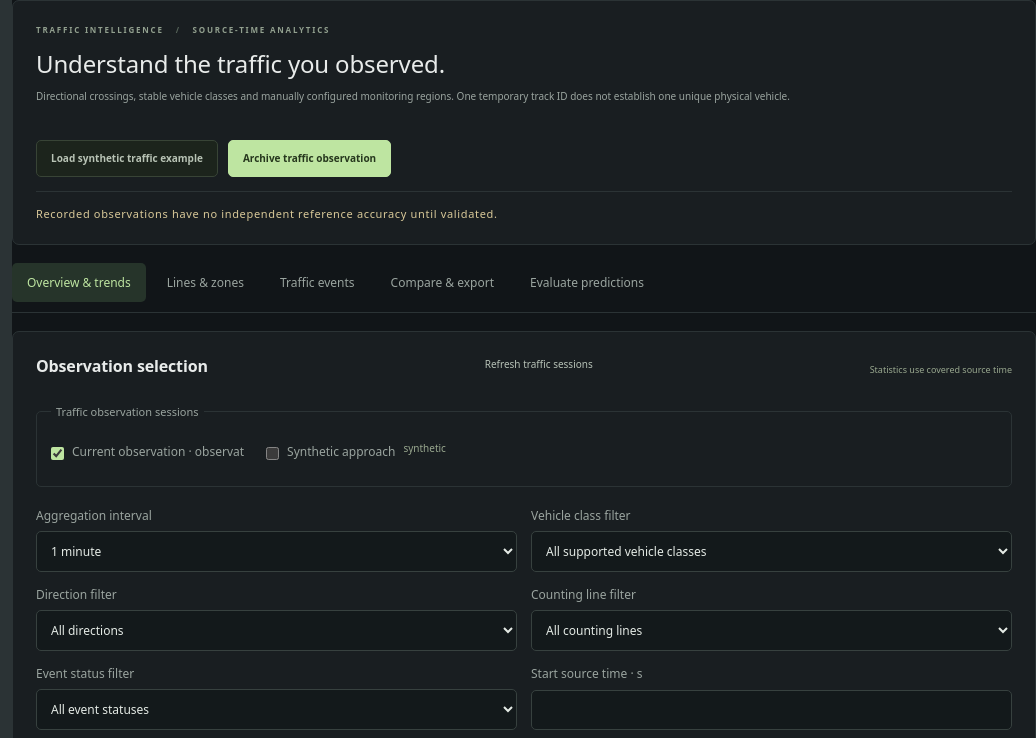
Test: Traffic Intelligence workspace › blocks reversed source-time bounds and displays export failures
Type "10" into the number field labelled "Start source time · s" at (772, 710), box x1=531 y1=690 x2=1012 y2=730
(page scrolled)
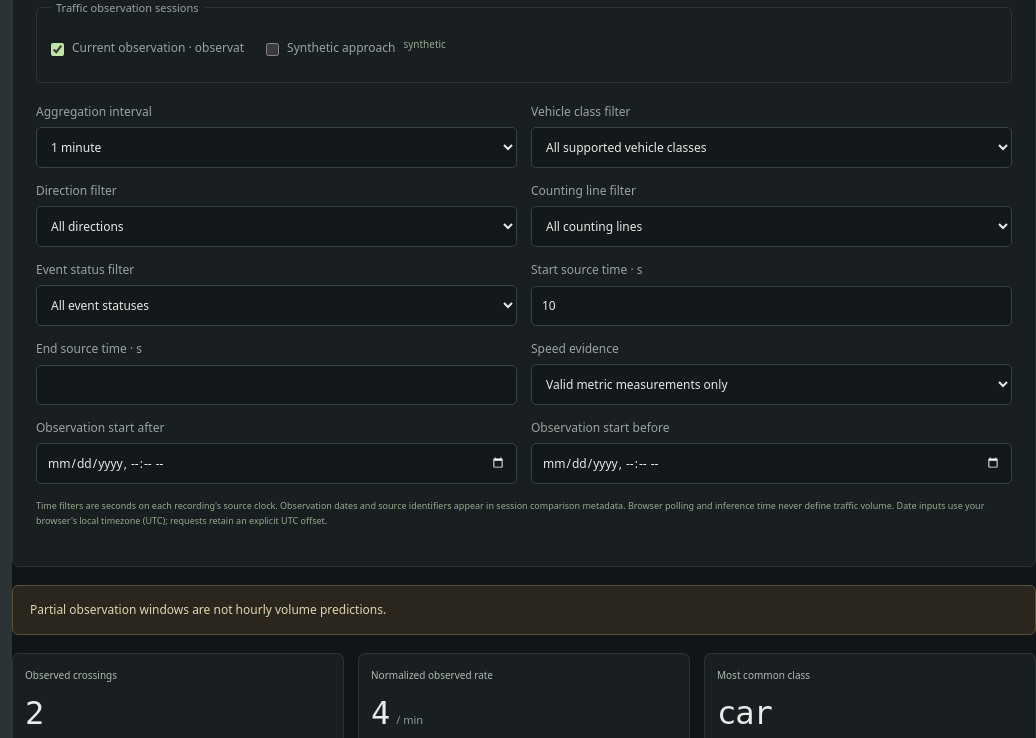
Type "2" into the number field labelled "End source time · s" at (276, 385), box x1=36 y1=365 x2=517 y2=405
(page scrolled)
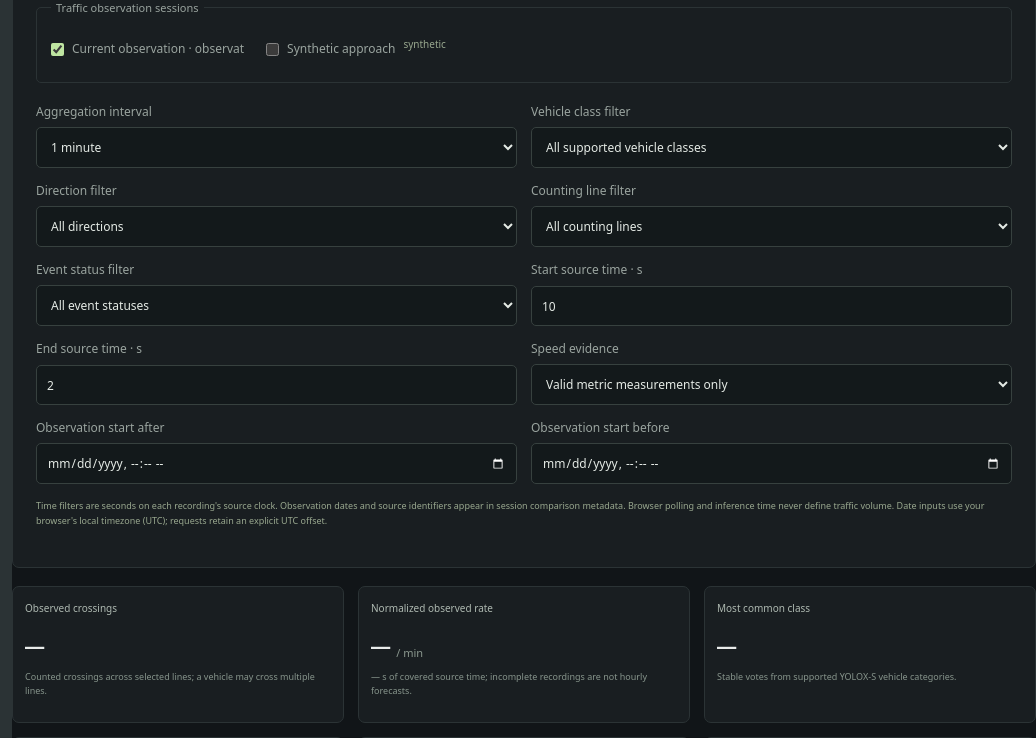
Replace the text in the number field labelled "End source time · s" with "20" at (276, 385), box x1=36 y1=365 x2=517 y2=405
(page scrolled)
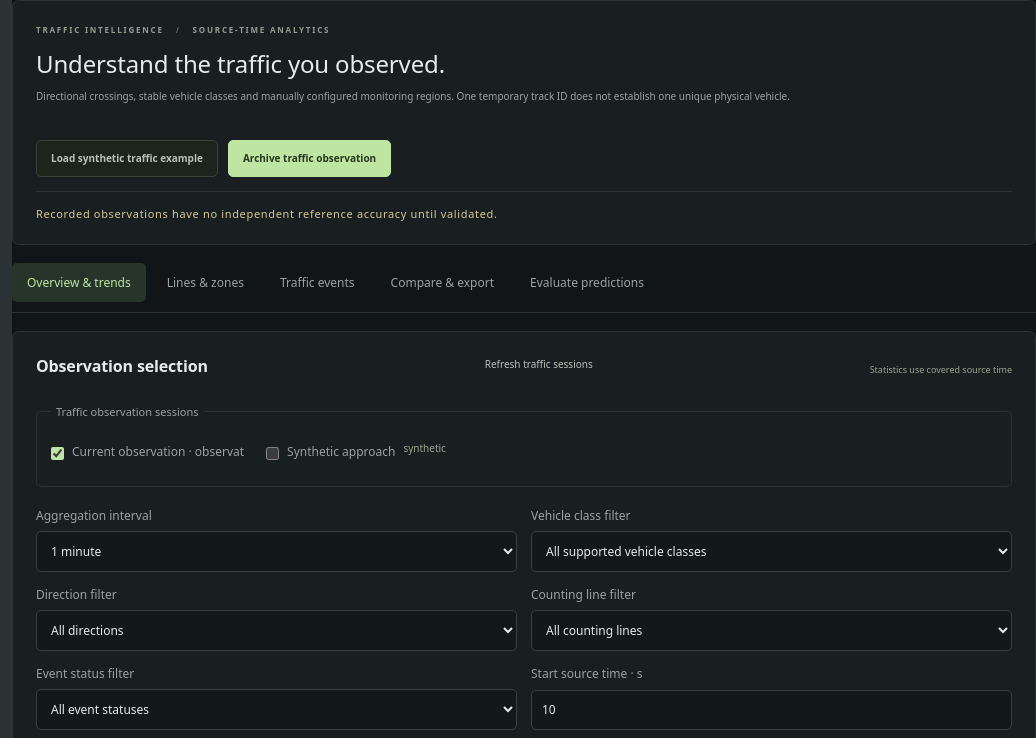
Click the tab "Compare & export" at (442, 282), box x1=376 y1=262 x2=509 y2=302
(page scrolled)
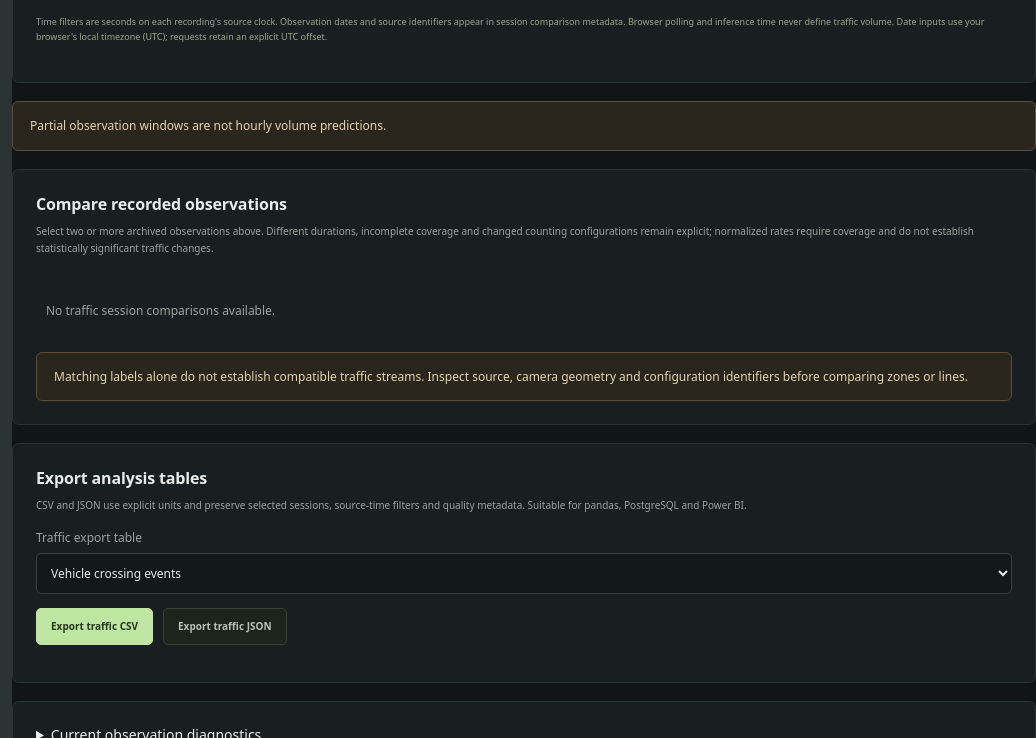
Click the button "Export traffic JSON" at (225, 626), box x1=163 y1=608 x2=286 y2=645
(page scrolled)
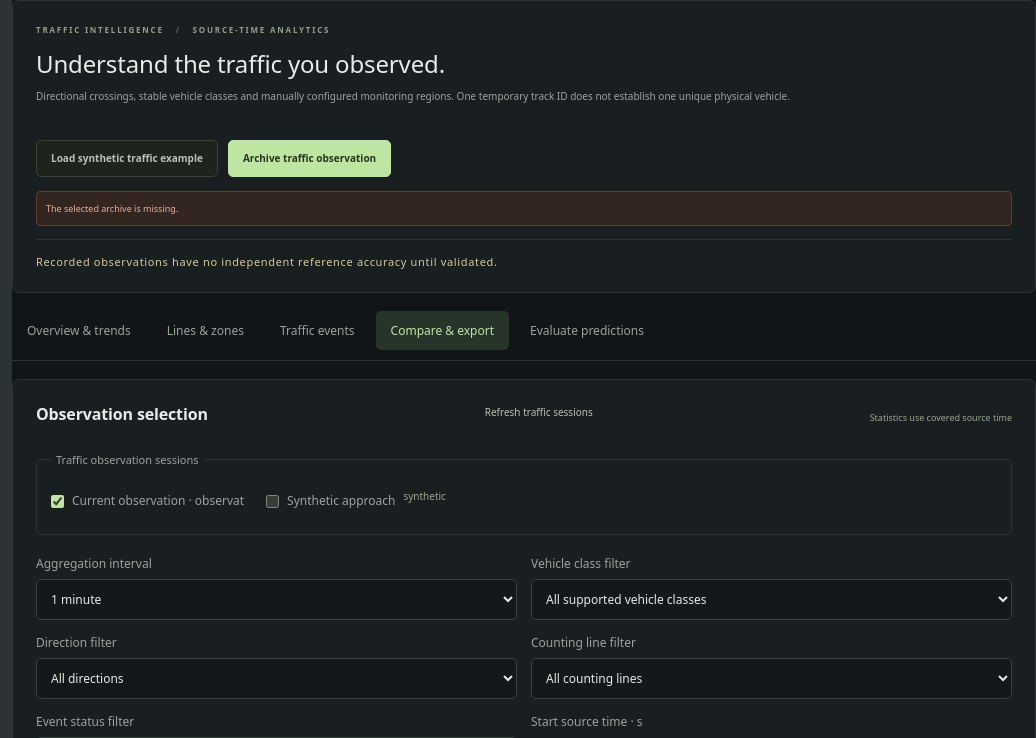
Expected: the message shows "selected archive is missing", x1=46 y1=202 x2=178 y2=214
